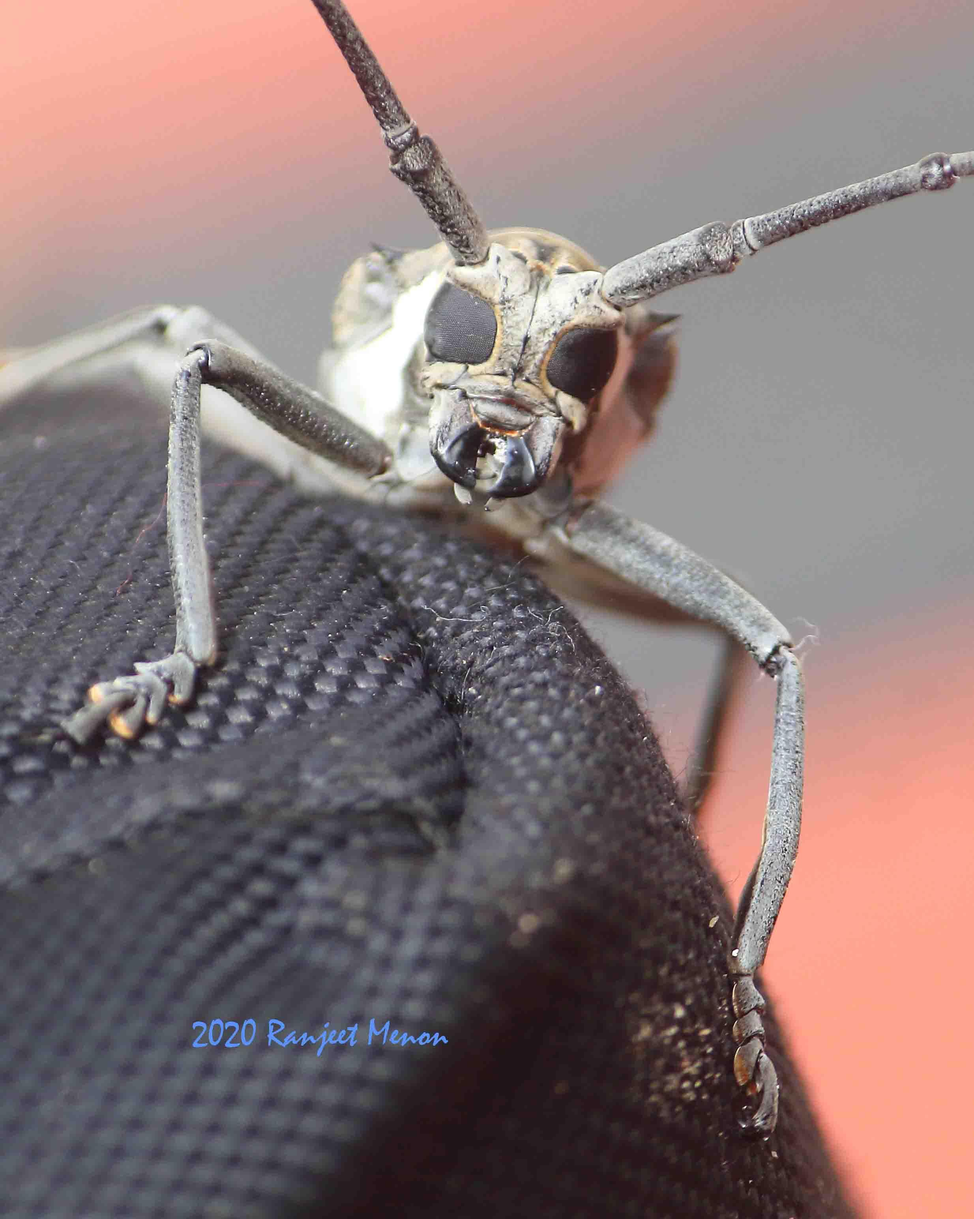insect: (0, 0, 974, 1167)
